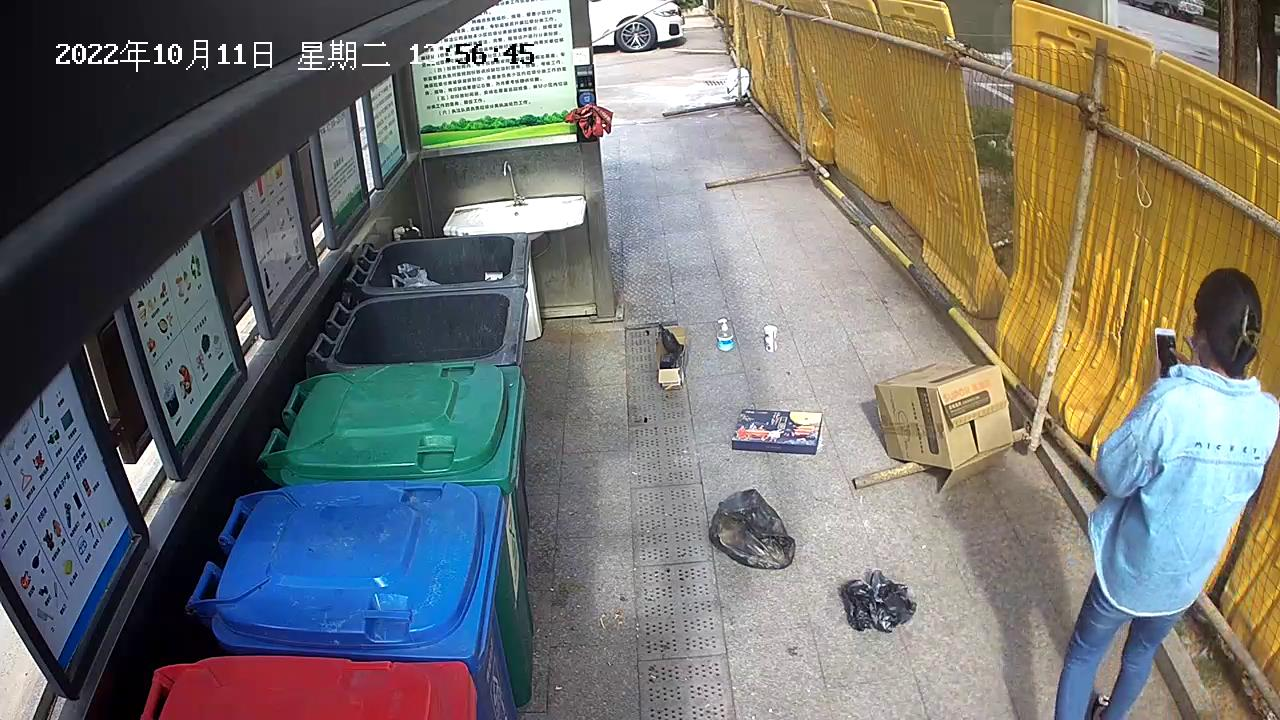garbage-bag: (703, 486, 803, 577), (834, 566, 922, 635)
lvzhipin: (759, 321, 783, 356)
suliaozhipin: (712, 315, 739, 356)
worker: (1047, 262, 1280, 712)
zhizhipin: (869, 358, 1020, 496), (726, 403, 832, 456), (652, 319, 691, 395)
